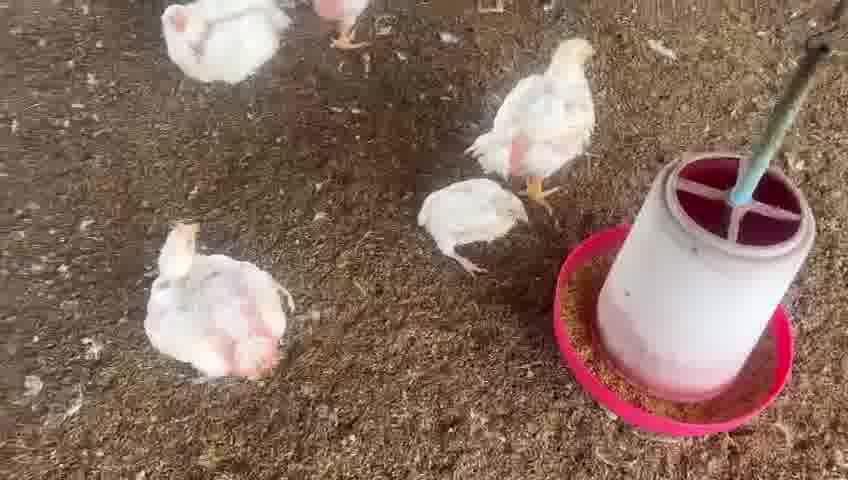AbNormal: (146, 215, 288, 380), (418, 183, 528, 273)
Normal: (483, 39, 601, 206), (162, 3, 286, 87), (306, 3, 373, 53)
